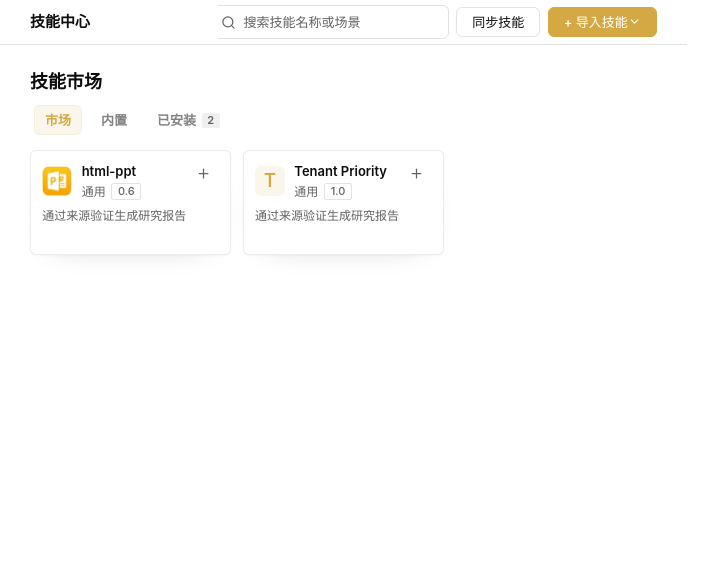
Test case: SkillCenterPage › dedupes market packages by plugin id and keeps the best package card
Expected: the text with test id "skill-card-version" reads "0.6", [118,184,135,198]
Expected: the text with test id "skill-card-version" reads "1.0", [331,184,345,198]
Click the button "内置".
click(114, 120)  # box [90,105,138,135]
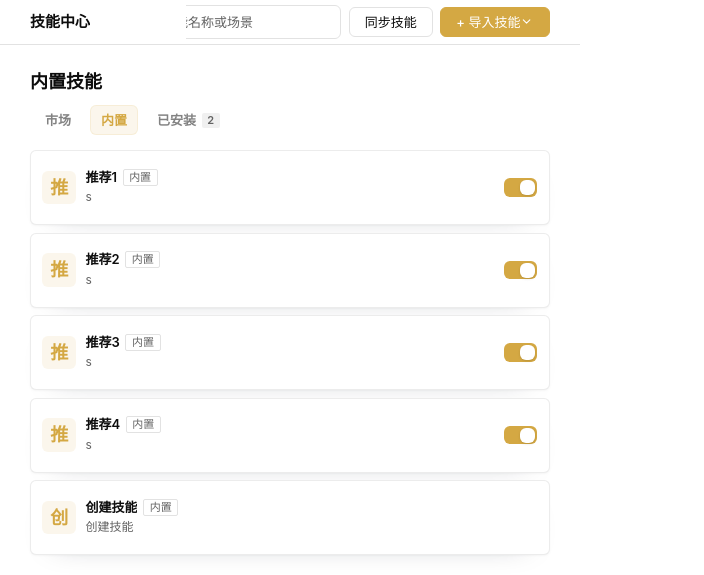
Result: the button "创 创建技能 内置 创建技能" is shown at [30,480,550,555]
